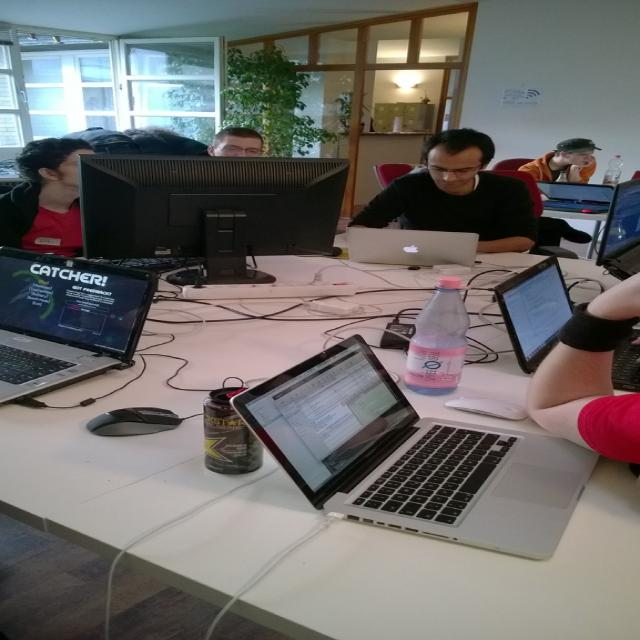chair: (372, 162, 413, 188), (492, 157, 532, 170)
desk: (0, 250, 639, 640)
keyboard: (0, 344, 75, 384)
laptop: (228, 332, 604, 557), (0, 247, 159, 408), (492, 256, 577, 376), (346, 228, 479, 268), (534, 181, 614, 215)
mouse: (84, 407, 181, 437), (443, 396, 530, 420)
person: (347, 128, 541, 254), (526, 270, 639, 465), (1, 134, 102, 257), (518, 138, 601, 185), (206, 127, 265, 157)
tv: (79, 156, 349, 262)
